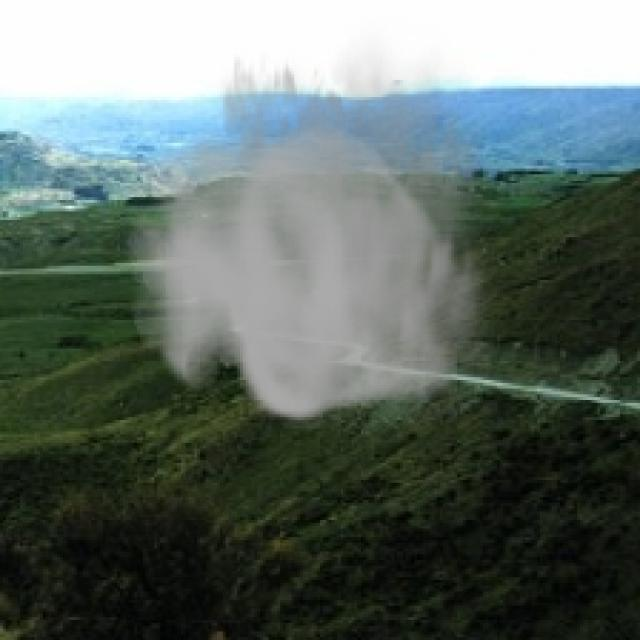smoke: (126, 17, 508, 429)
